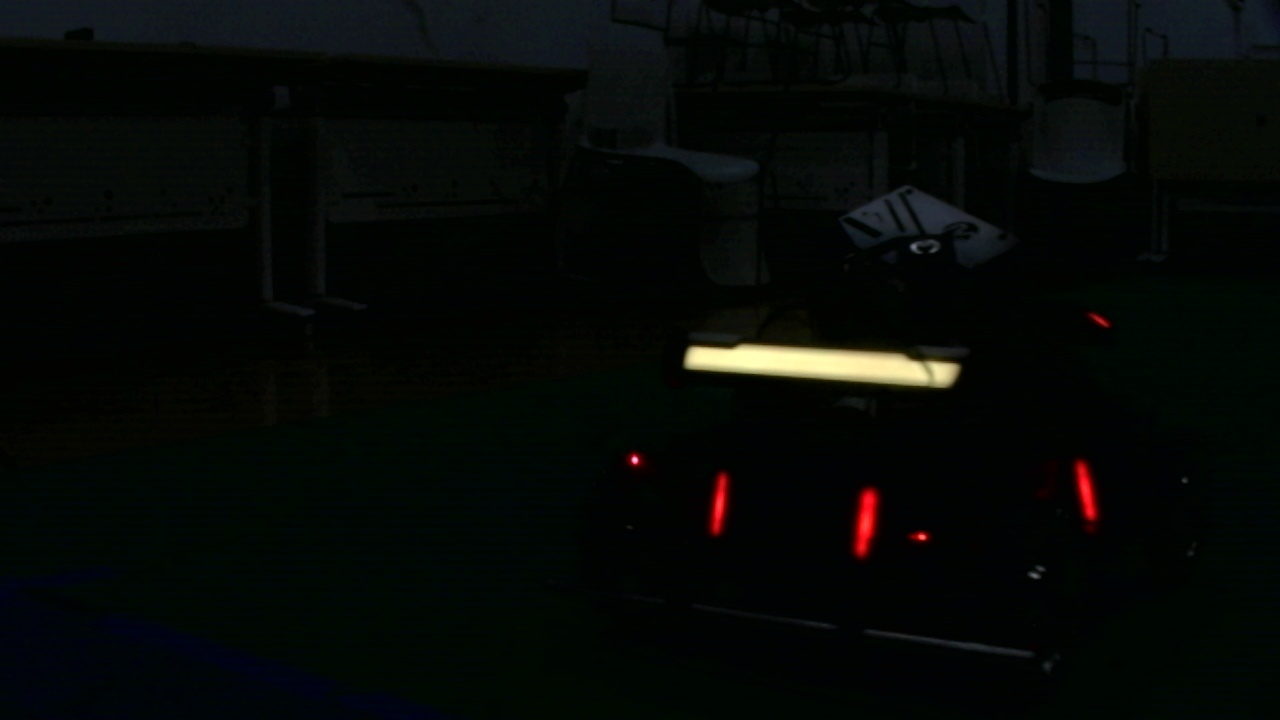lamp: (848, 485, 882, 554), (1072, 453, 1097, 521), (710, 464, 729, 539)
notpair1: (846, 454, 1100, 562)
pair1: (711, 468, 879, 560)
